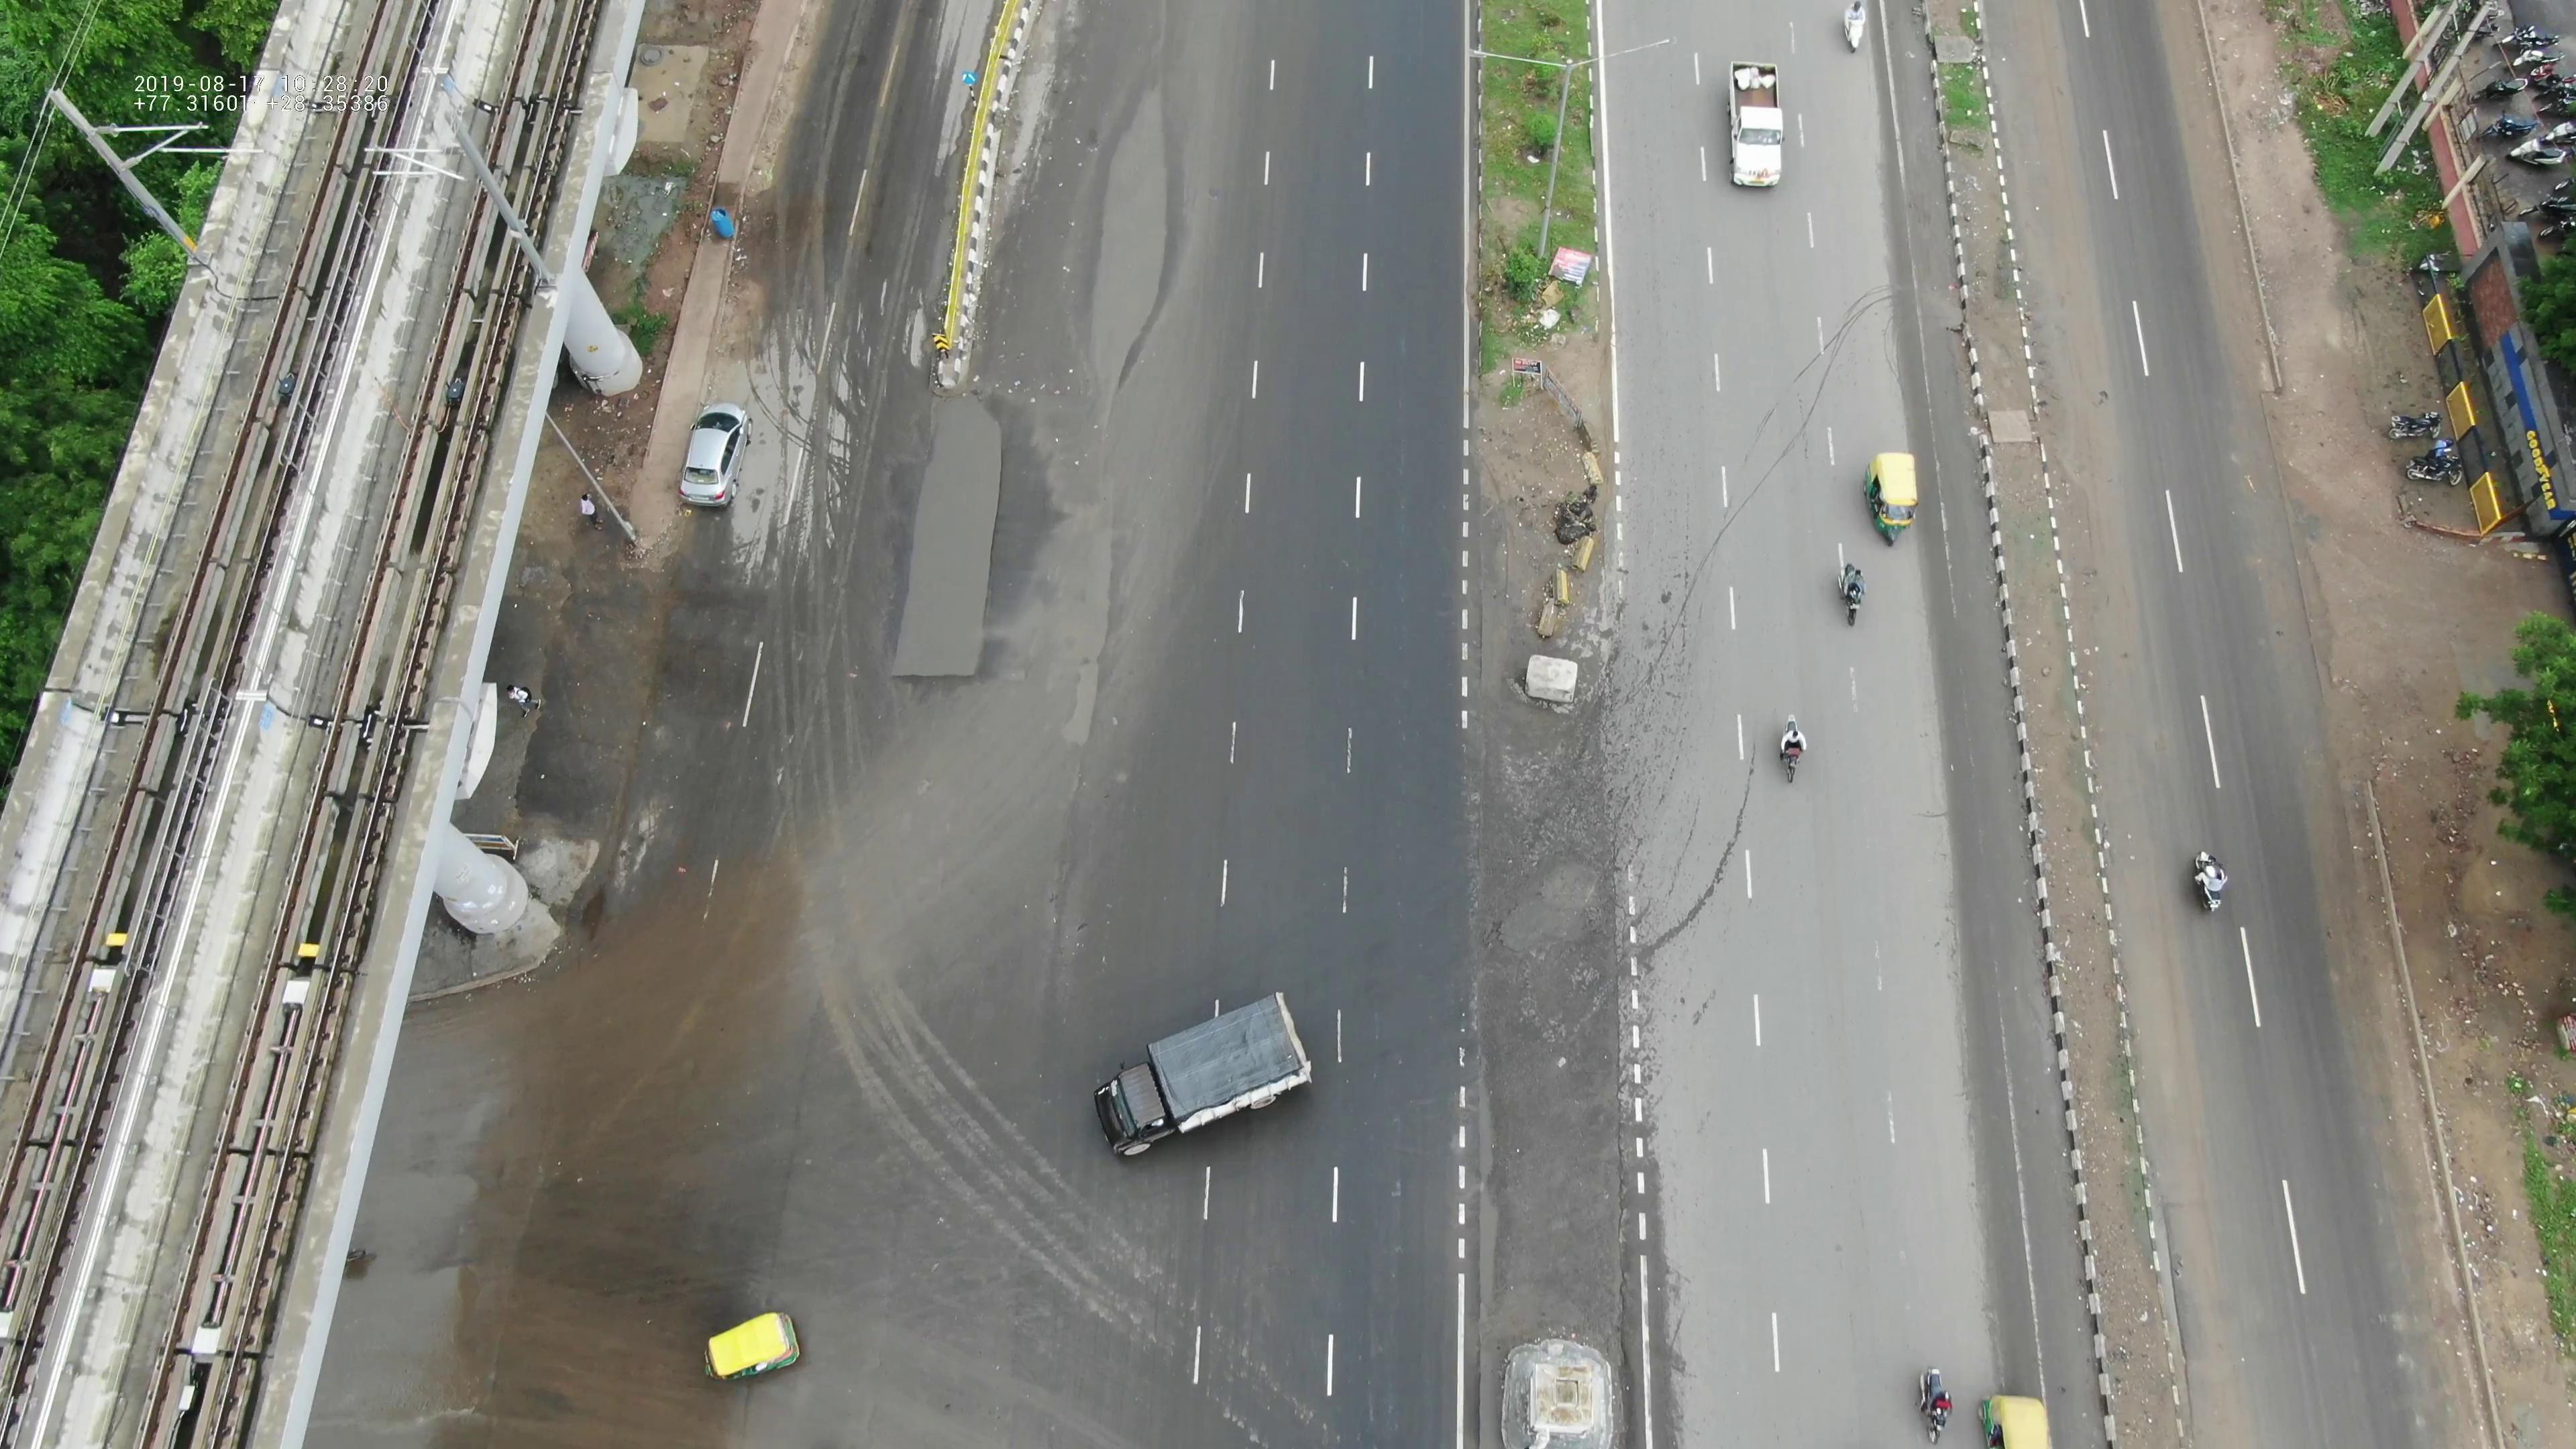Potholes: (878, 352, 1033, 692), (1069, 37, 1198, 409), (1031, 499, 1131, 832)
